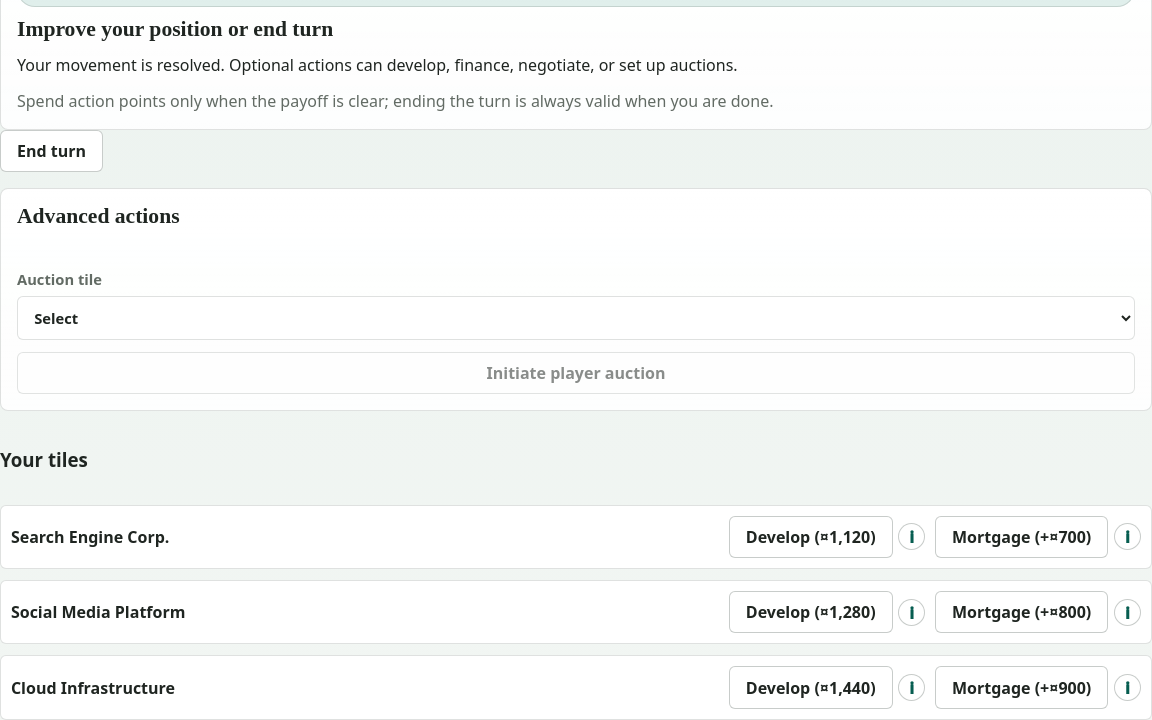
Test: GamePlayControls economics dialogs › shows currency-valued development economics with active affinity modifiers
The width and height of the screenshot is (1152, 720).
(page scrolled)
Check: the button "Develop (¤1,120)" is shown, box [729,516,893,558]
Click the button named "explain developing search engine corp".
click(912, 537)  # box [898,523,925,550]
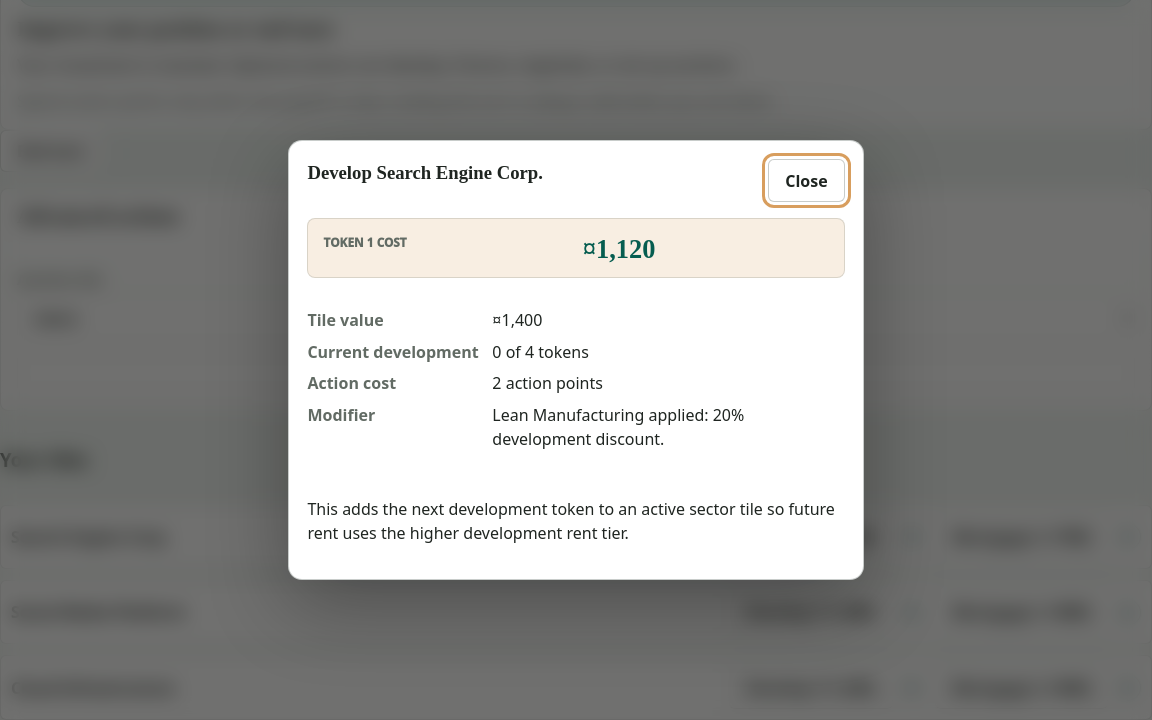
Check: the text "¤1,120" is shown, box [583,234,655,264]
Check: the text "Lean Manufacturing applied: 20% development discount." is shown, box [492,404,744,450]
